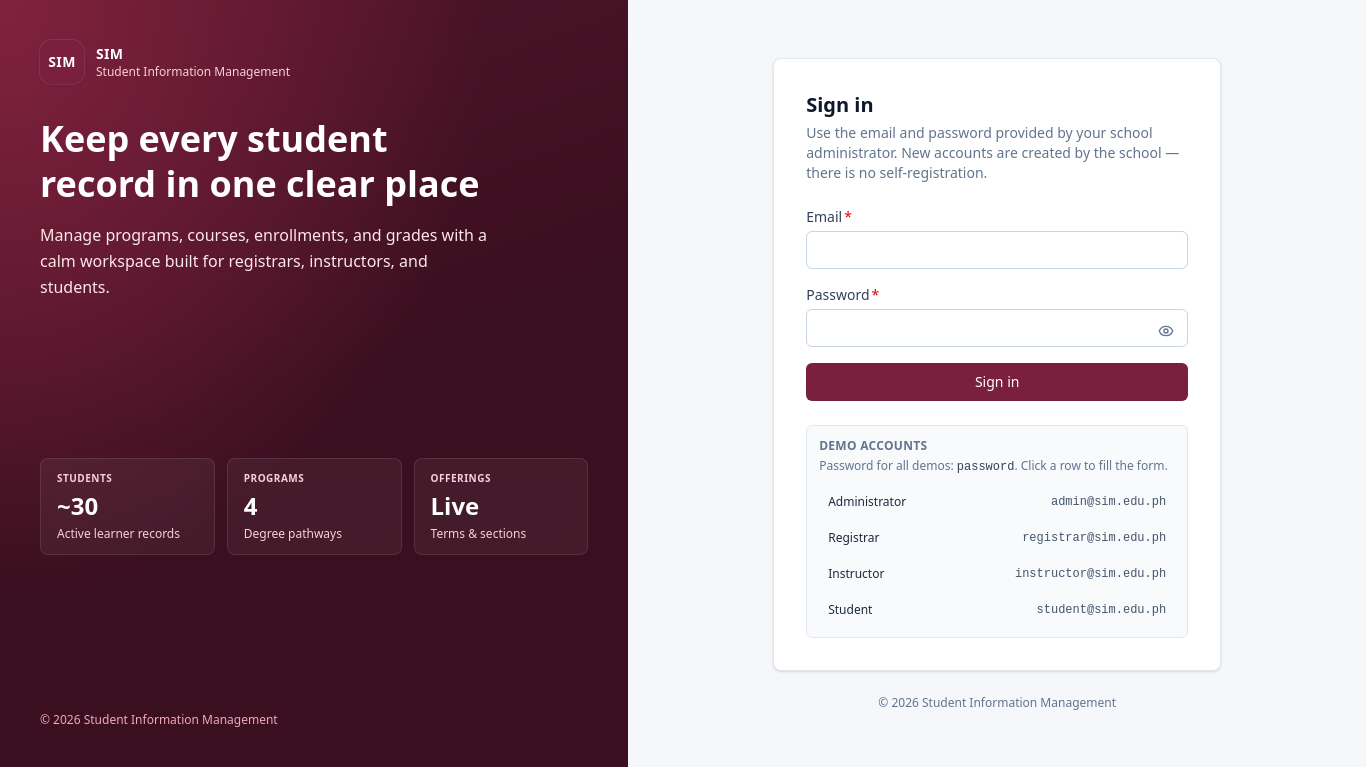
Test case: LoginPage › shows network error when server is unavailable
Type "admin@sim.edu.ph" into the field labelled "Email*" at (997, 250), box [806,230,1188,268]
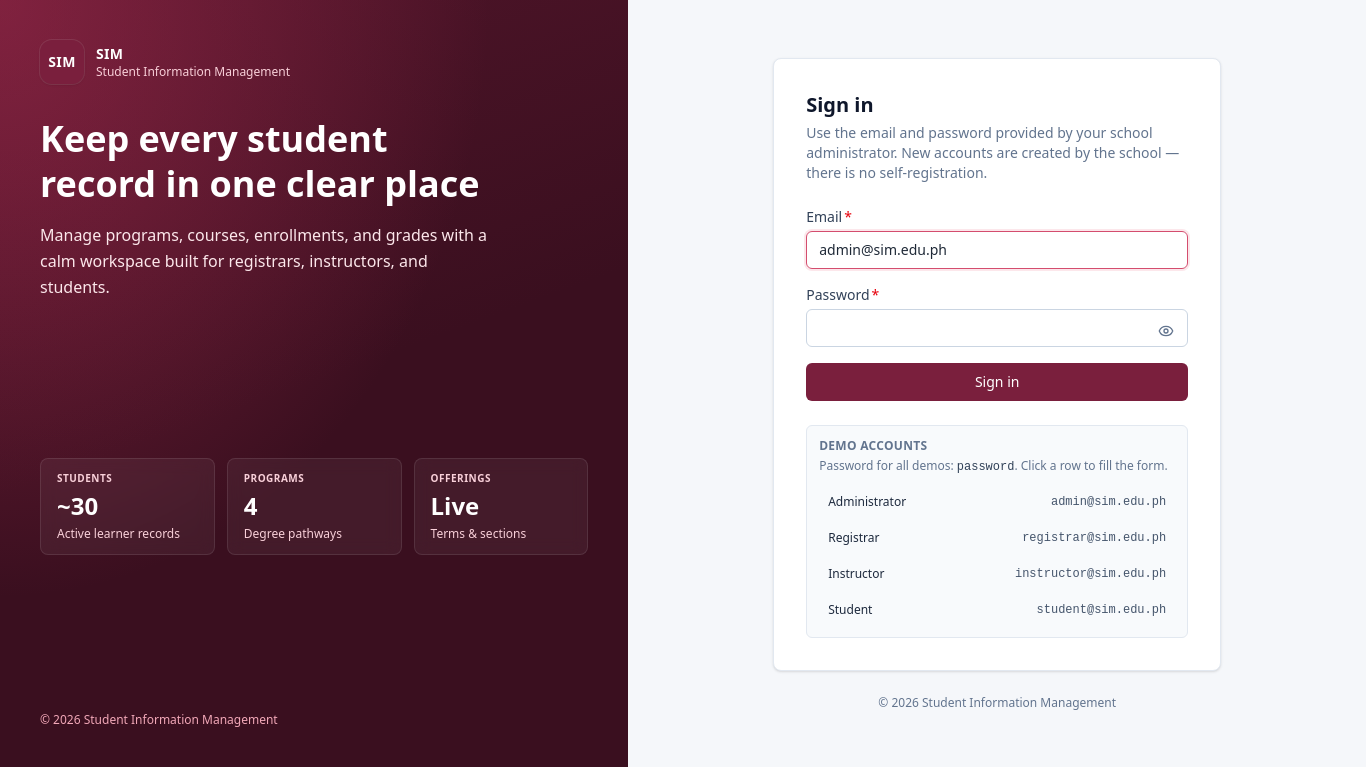
Type "password" into the password field labelled "Password*" at (997, 328), box [806,308,1188,346]
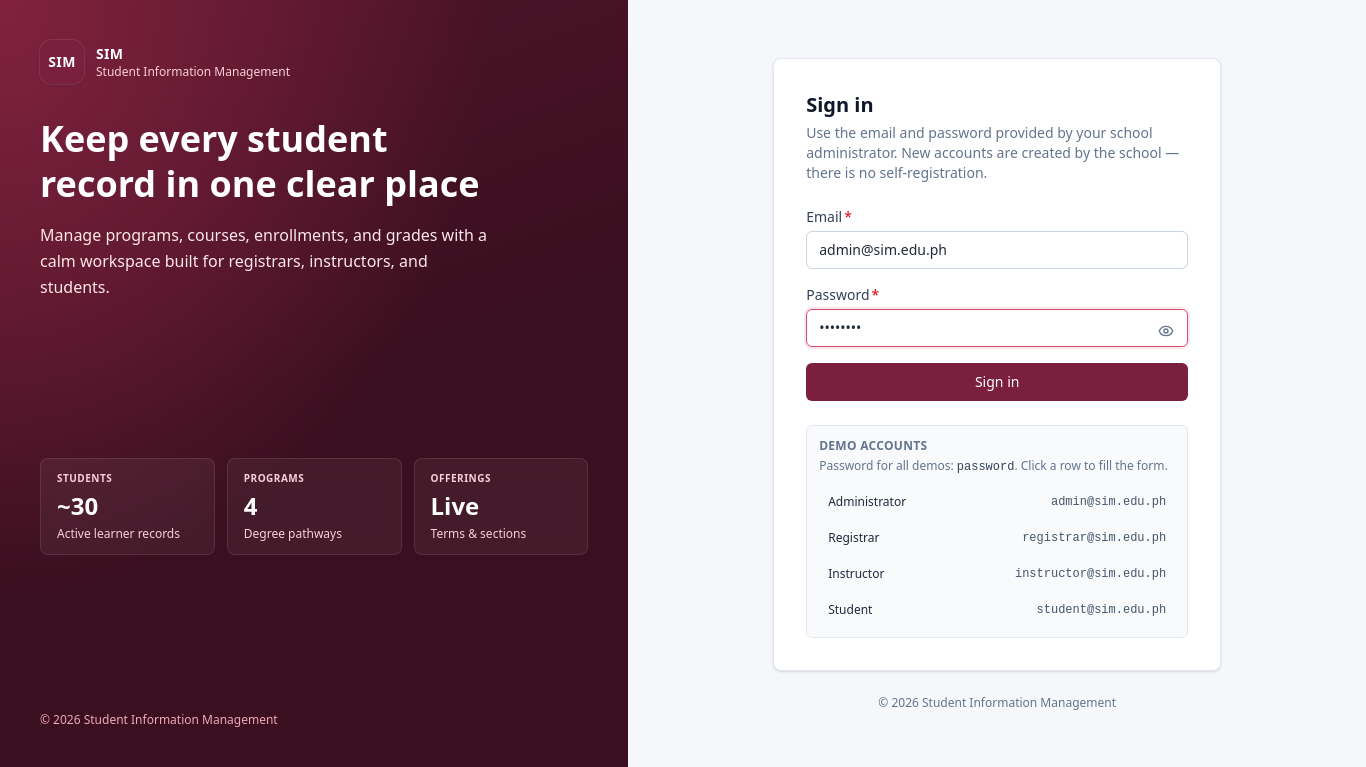
Click the button "Sign in" at (997, 382), box [806,362,1188,400]
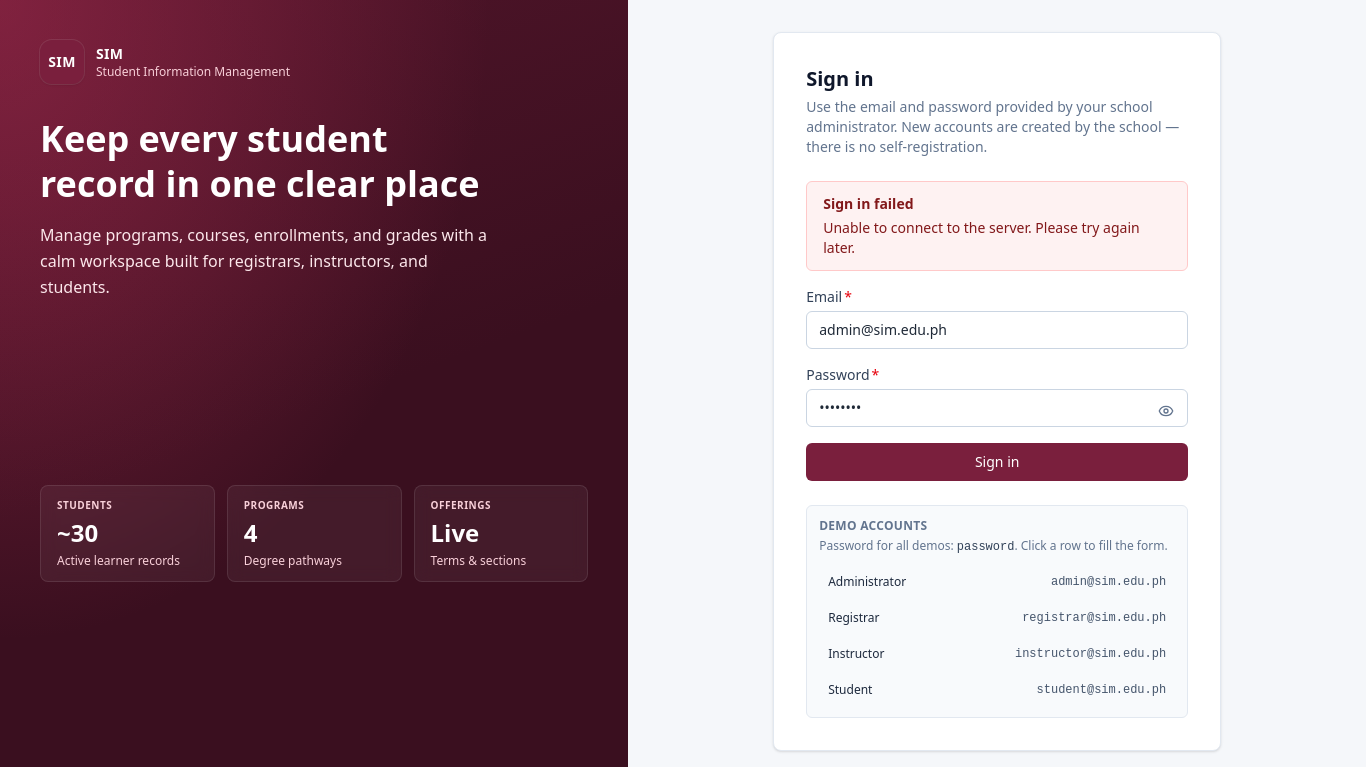
Result: the text "Unable to connect to the server. Please try again later." is shown at [823,218,1171,258]
